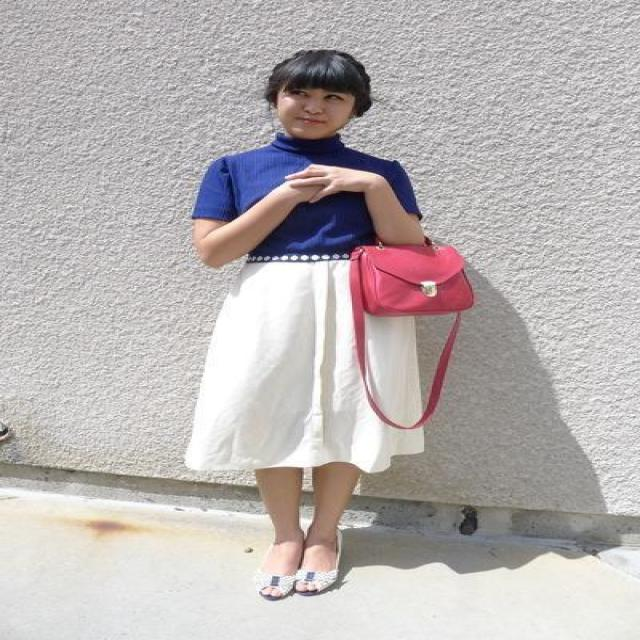bag: (349, 246, 472, 396)
shirt: (192, 134, 422, 262)
shoe: (262, 552, 350, 606)
skirt: (182, 254, 422, 472)
